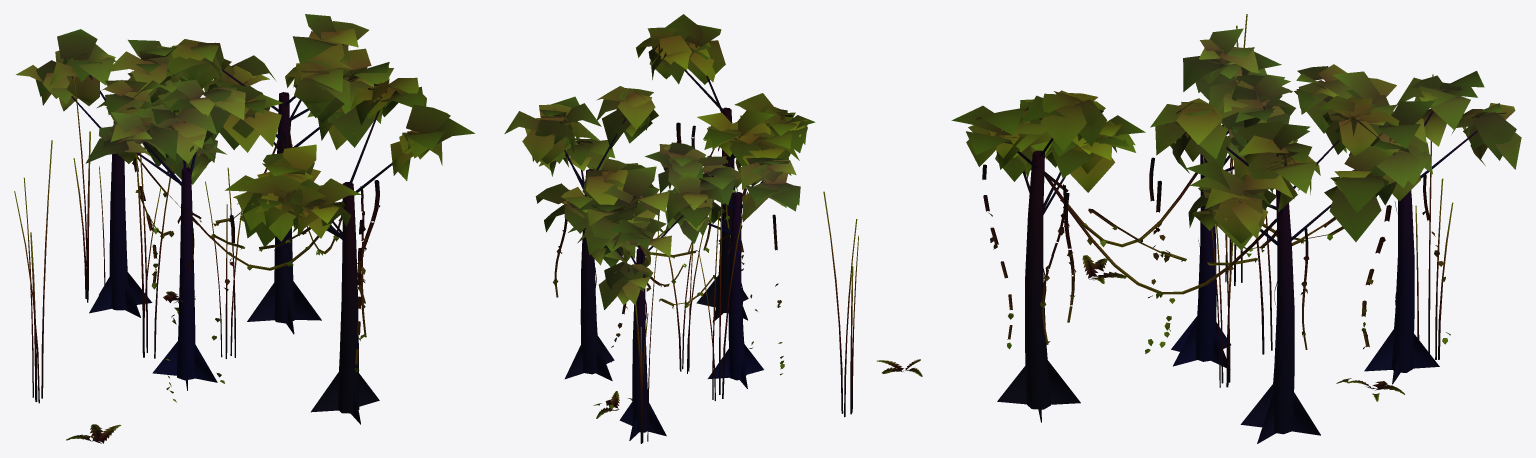
Rendered from patch_canopy_far.glb.
3 views of the same model, side by side, from view 1: azimuth 30°, elevation 25°; view 2: azimuth 150°, elevation 25°; view 3: azimuth 270°, elevation 25° (orthographic). The views are drawn at different scales.
Parts seen in each view (by area): view 1: patch_canopy_far; view 2: patch_canopy_far; view 3: patch_canopy_far.
Boxes of the visible parts, x1=… form: patch_canopy_far: x1=14, y1=14, x2=475, y2=443; patch_canopy_far: x1=504, y1=14, x2=922, y2=443; patch_canopy_far: x1=951, y1=14, x2=1521, y2=443.
Bounding box in the file's own units: 15.34 × 11.9 × 17.69.
Materials: 1 (1 with a texture image).
